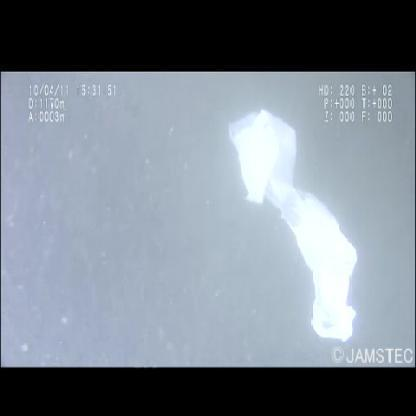Rác: (229, 110, 358, 343)
